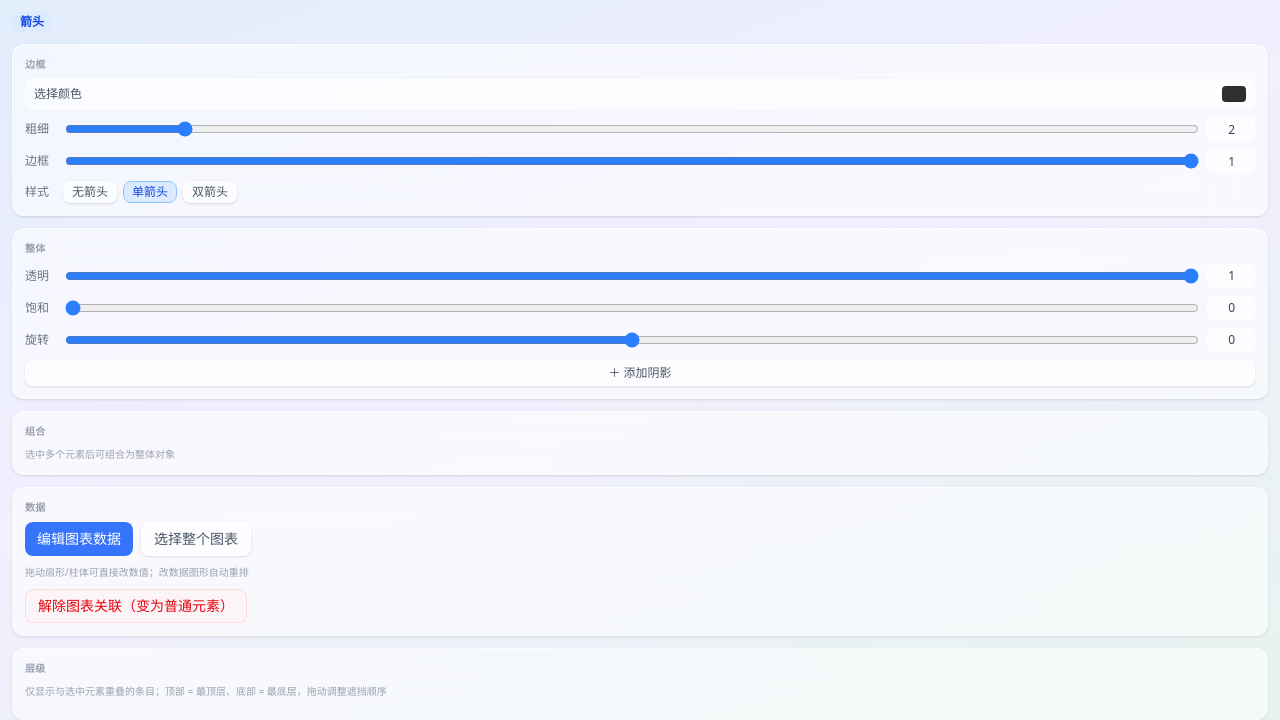
Test: PropertyPanel › 数据卡：解除图表关联移除全部绑定元素的 bind/chartId 并删除图表登记，数据卡消失
This screenshot has width=1280, height=720.
Click the button with test id "detach-chart".
click(136, 606)  # box [25,589,247,623]
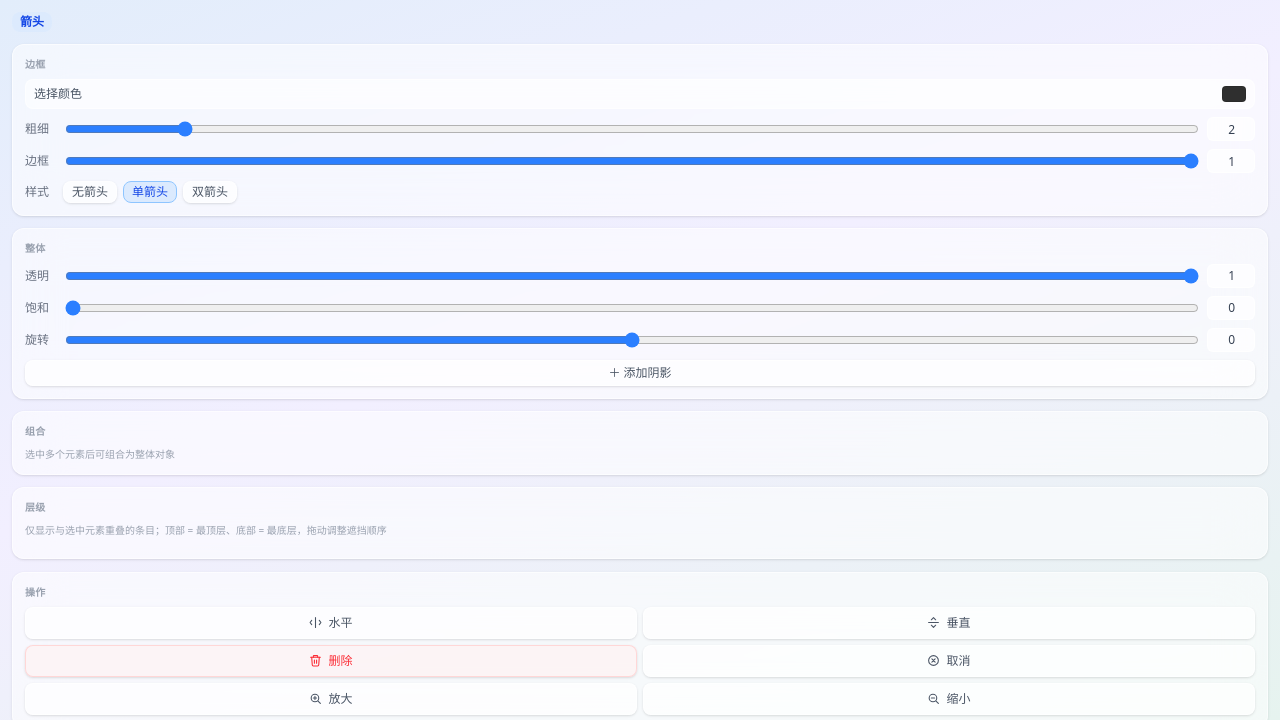
Check: the button with test id "detach-chart" is gone
